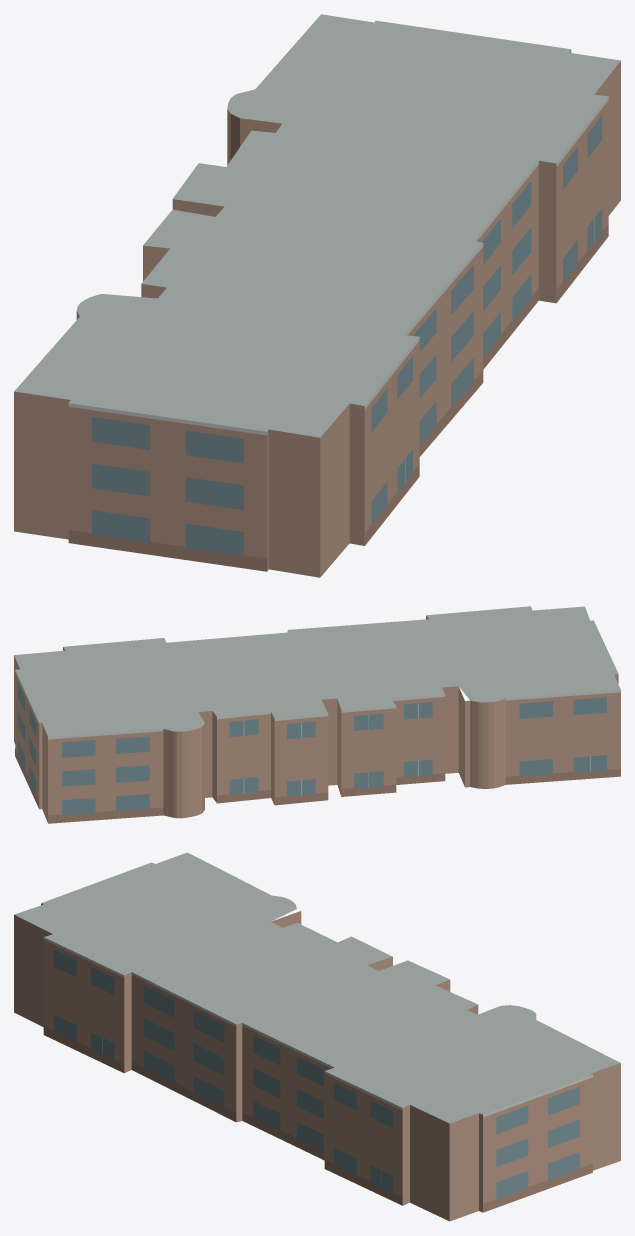
File: survey-upis-32950045.glb
3 views of the same model, one above another, from view 1: azimuth 30°, elevation 25°; view 2: azimuth 150°, elevation 25°; view 3: azimuth 270°, elevation 25° (orthographic). The views are drawn at different scales.
Parts seen in each view (by area): view 1: survey-upis-32950045.tmp; view 2: survey-upis-32950045.tmp; view 3: survey-upis-32950045.tmp.
Part boxes in pixels (left/top/right/bottom): survey-upis-32950045.tmp: left=14, top=14, right=620, bottom=577; survey-upis-32950045.tmp: left=14, top=606, right=620, bottom=823; survey-upis-32950045.tmp: left=14, top=852, right=620, bottom=1221.
Bounding box in the file's own units: 54.36 × 9.15 × 51.42.
